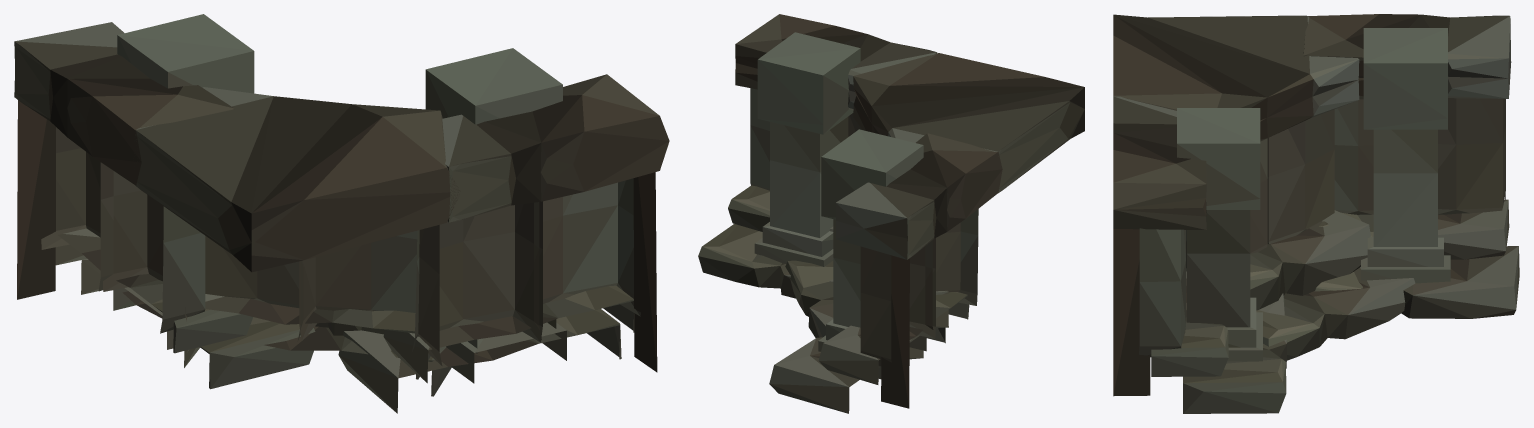
The model's file is low_wall_corner.fbx.
3 renders of one model, left to right at view 1: azimuth 30°, elevation 25°; view 2: azimuth 150°, elevation 25°; view 3: azimuth 270°, elevation 25°, orthographic. The views are drawn at different scales.
Visible parts, largest first — view 1: low_wall_corner; view 2: low_wall_corner; view 3: low_wall_corner.
Part boxes in pixels (x1,y1,x2,y2): low_wall_corner: (14, 14, 669, 413); low_wall_corner: (698, 14, 1084, 413); low_wall_corner: (1113, 14, 1519, 413).
Bounding box in the file's own units: 4.12 × 2.76 × 4.15.
